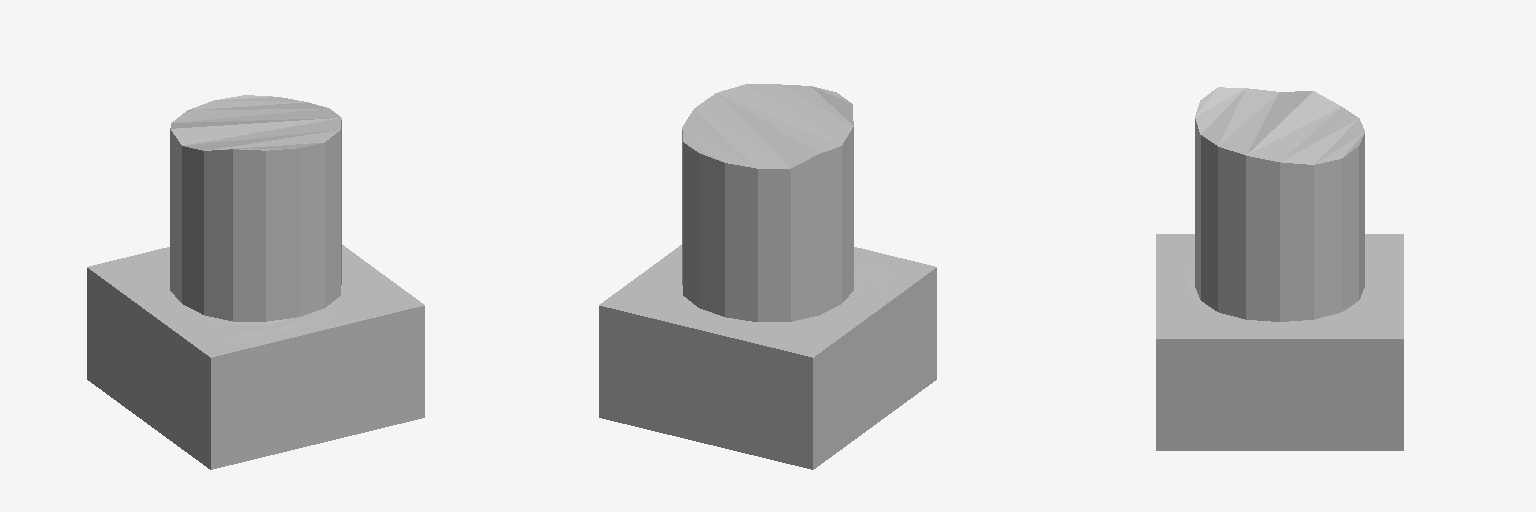
File: pillar4.obj
The picture shows the model from 3 angles: view 1: azimuth 30°, elevation 25°; view 2: azimuth 150°, elevation 25°; view 3: azimuth 270°, elevation 25°; orthographic projection.
Parts seen in each view (by area): view 1: pillar.004_Cube.006; view 2: pillar.004_Cube.006; view 3: pillar.004_Cube.006.
Part boxes in pixels (x1,y1,x2,y2): pillar.004_Cube.006: (87, 95, 424, 469); pillar.004_Cube.006: (599, 84, 936, 469); pillar.004_Cube.006: (1156, 87, 1403, 450).
Bounding box in the file's own units: 4 × 5.07 × 4.